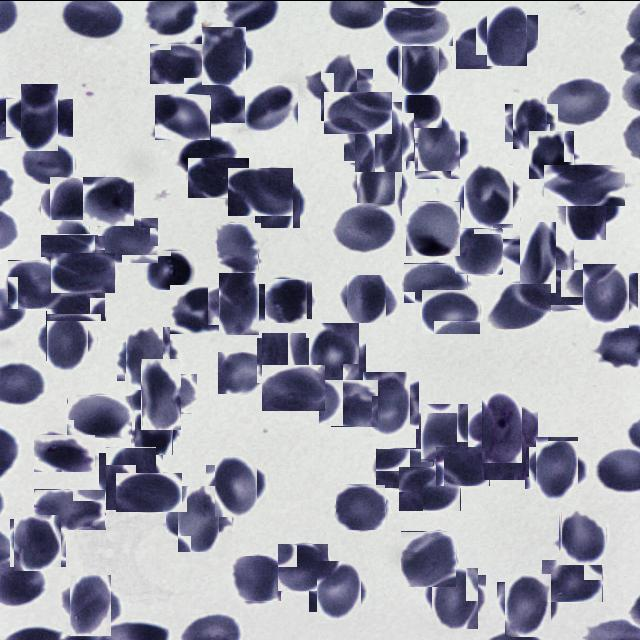red blood cell: (349, 106, 408, 166), (544, 163, 626, 205), (332, 201, 397, 253), (460, 166, 518, 224), (305, 326, 363, 383), (102, 449, 159, 506), (226, 167, 292, 215), (410, 118, 466, 174), (133, 366, 189, 422), (358, 376, 414, 432), (401, 530, 457, 586), (578, 268, 634, 324), (484, 282, 552, 328), (170, 284, 233, 333), (501, 577, 556, 632), (406, 200, 461, 255), (121, 330, 176, 384), (392, 34, 446, 89), (34, 488, 106, 529), (521, 268, 593, 309), (428, 570, 482, 624), (511, 229, 565, 283), (172, 491, 226, 545), (262, 364, 325, 410), (319, 378, 379, 426), (324, 91, 392, 133), (67, 394, 133, 437), (354, 158, 406, 212), (418, 406, 472, 458), (14, 90, 66, 144), (98, 216, 159, 262), (399, 465, 461, 510), (547, 78, 609, 123), (530, 441, 582, 494), (210, 459, 262, 512), (184, 77, 245, 122), (12, 516, 64, 568), (313, 60, 365, 112), (313, 563, 365, 615), (213, 278, 265, 330), (560, 181, 612, 233), (242, 82, 298, 130), (542, 558, 603, 602), (383, 7, 453, 45), (422, 288, 481, 333), (65, 578, 116, 630), (8, 259, 62, 308), (42, 314, 93, 365), (557, 511, 608, 562), (481, 8, 532, 59), (198, 30, 250, 80), (155, 93, 211, 139), (116, 472, 182, 511), (404, 262, 468, 302), (51, 252, 115, 292), (41, 234, 106, 273), (260, 334, 310, 384), (83, 176, 134, 225), (186, 157, 248, 197), (278, 542, 329, 590), (229, 556, 281, 602), (34, 433, 96, 471), (45, 180, 94, 228), (456, 26, 512, 68), (20, 140, 74, 183), (376, 447, 434, 487), (336, 484, 386, 530), (150, 42, 206, 83), (528, 130, 575, 177), (456, 226, 502, 274), (217, 222, 259, 274), (436, 445, 490, 485), (47, 284, 106, 320), (508, 99, 554, 145), (482, 432, 528, 478), (265, 278, 313, 322), (218, 351, 268, 393), (181, 136, 237, 172), (146, 249, 196, 289), (258, 180, 303, 224), (345, 276, 389, 320), (133, 410, 175, 452), (404, 85, 442, 127)
ring: (473, 398, 530, 454)
